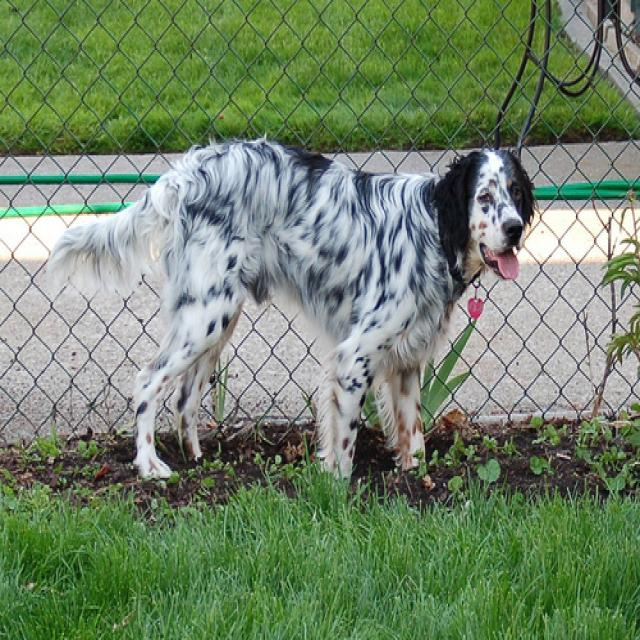dog-english_setter: (42, 131, 541, 495)
